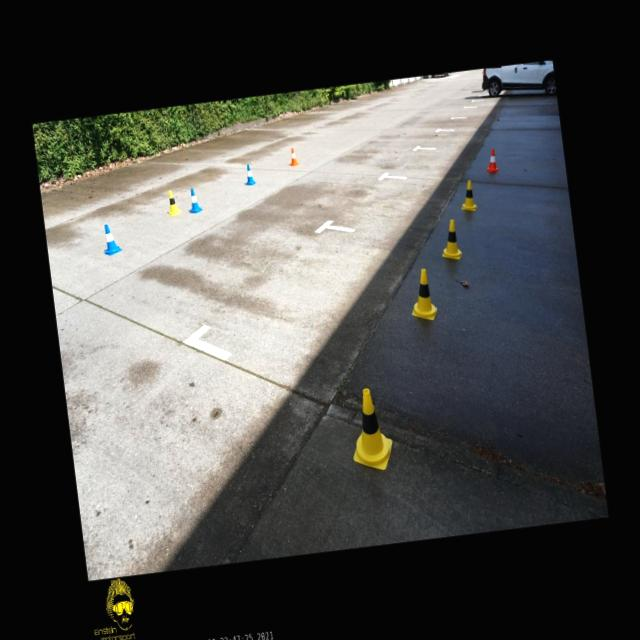blue_cone: (100, 222, 122, 256), (186, 188, 202, 214), (242, 163, 255, 185)
orange_cone: (484, 148, 499, 174), (287, 146, 299, 166)
yellow_cone: (344, 386, 396, 474), (406, 267, 438, 323), (438, 218, 462, 261), (458, 179, 478, 212), (164, 190, 180, 216)
